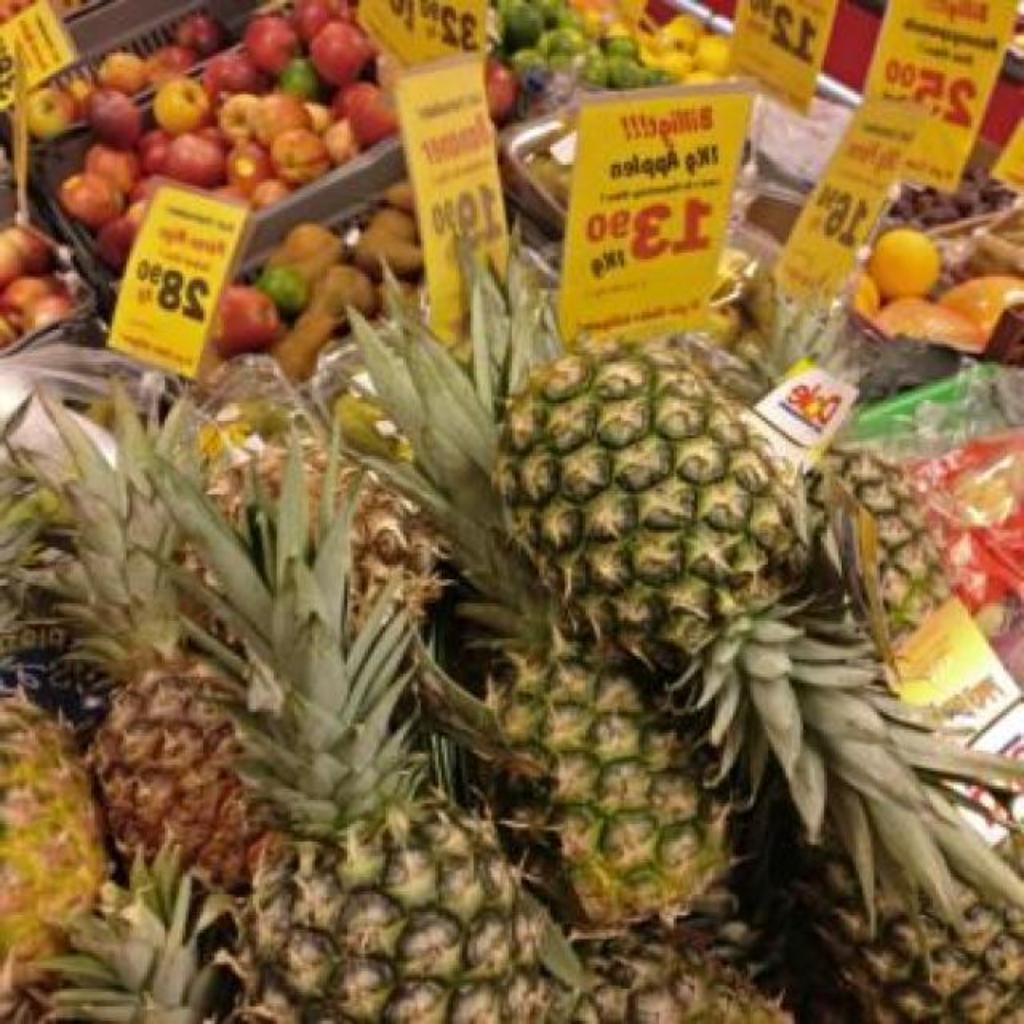pineapple: (508, 340, 1024, 923), (354, 272, 726, 923), (192, 432, 580, 1024), (54, 410, 266, 889), (820, 864, 1023, 1024), (0, 696, 106, 959), (824, 448, 952, 657), (578, 922, 792, 1023)
